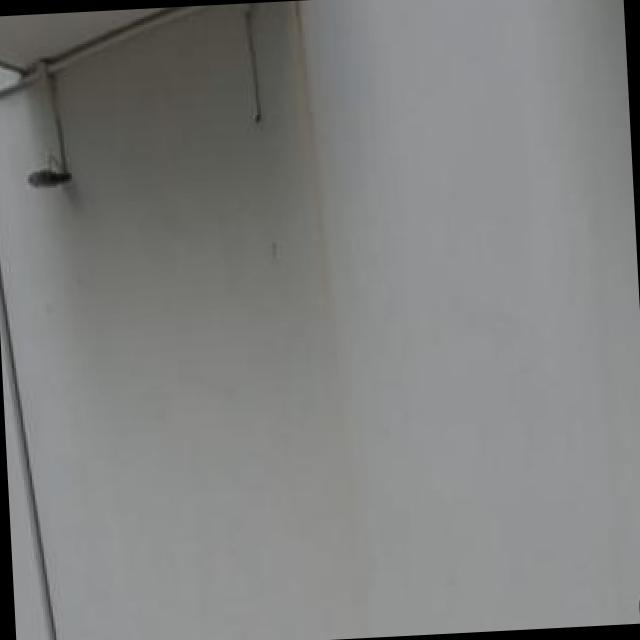Guns: (636, 589, 640, 624)
